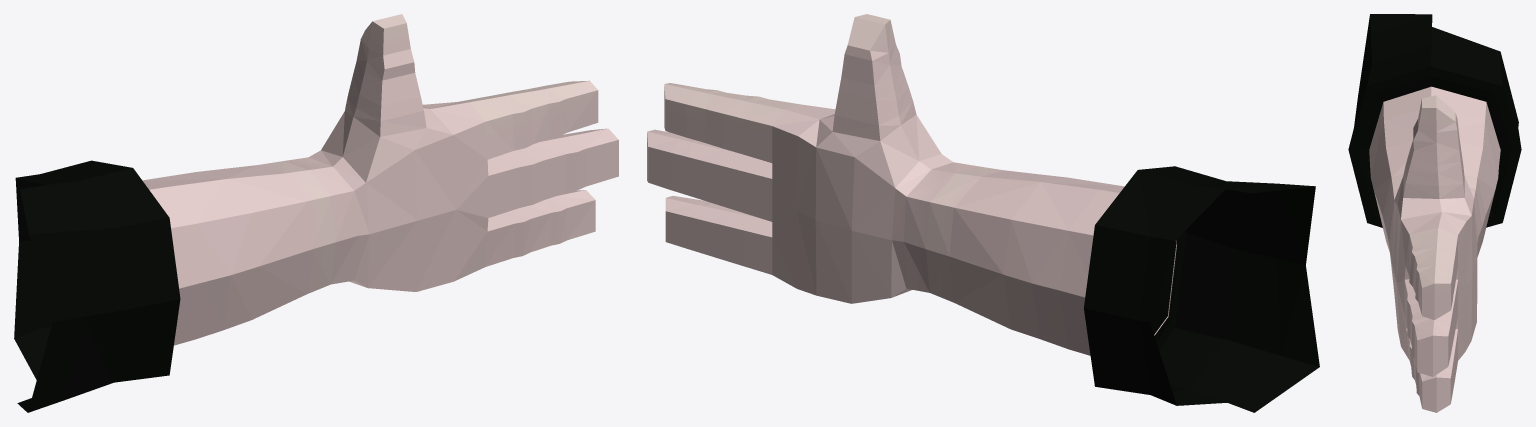
The model's file is BrazoDerBufford.obj.
The picture shows the model from 3 angles, left to right: view 1: azimuth 30°, elevation 25°; view 2: azimuth 150°, elevation 25°; view 3: azimuth 270°, elevation 25°; orthographic projection. The views are drawn at different scales.
Parts seen in each view (by area): view 1: Mesh_0929.rip_noesis_meshnode_0000_Mesh_0929.rip.001_Material.01; view 2: Mesh_0929.rip_noesis_meshnode_0000_Mesh_0929.rip.001_Material.01; view 3: Mesh_0929.rip_noesis_meshnode_0000_Mesh_0929.rip.001_Material.01.
Part boxes in pixels (x1,y1,x2,y2): Mesh_0929.rip_noesis_meshnode_0000_Mesh_0929.rip.001_Material.01: (14,14,618,412); Mesh_0929.rip_noesis_meshnode_0000_Mesh_0929.rip.001_Material.01: (647,14,1319,412); Mesh_0929.rip_noesis_meshnode_0000_Mesh_0929.rip.001_Material.01: (1348,14,1521,412).
Bounding box in the file's own units: 1.15 × 0.5203 × 0.3214.
